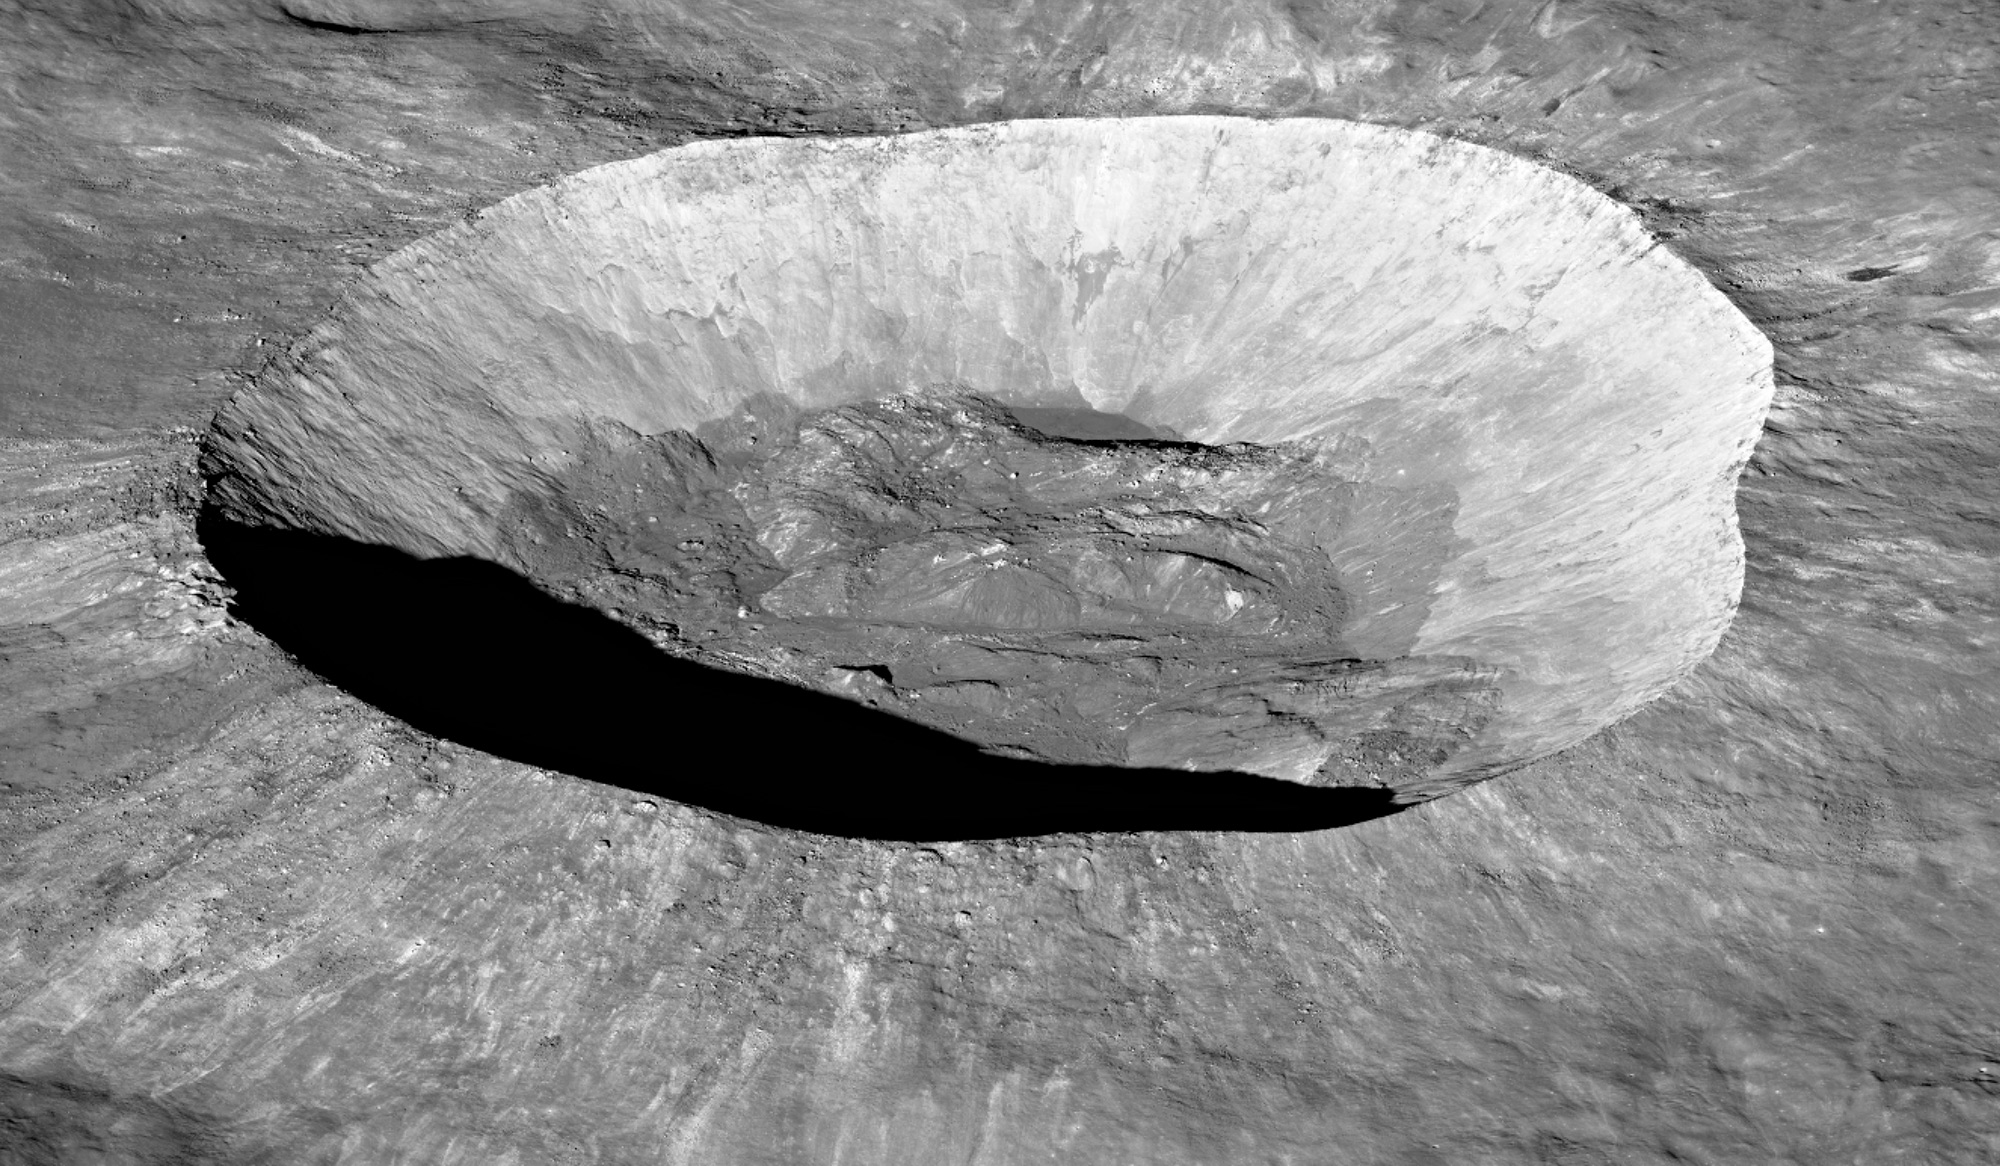crater: (119, 54, 1942, 970)
